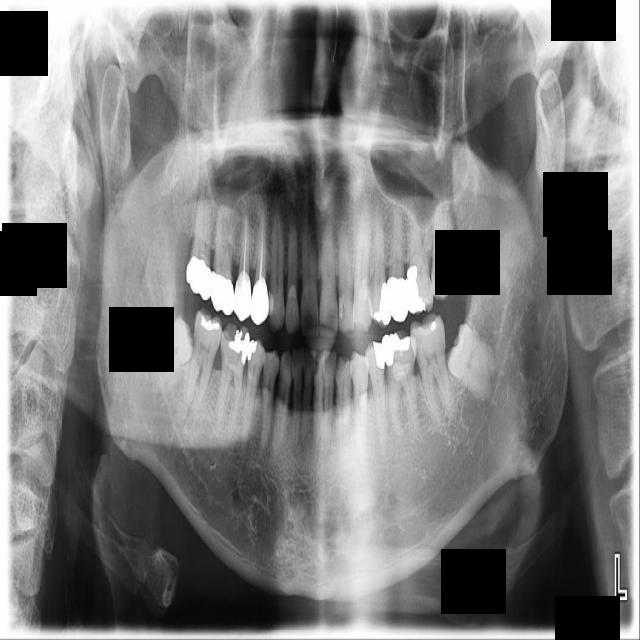52: (401, 308, 456, 366), (379, 328, 422, 385), (186, 306, 228, 360), (218, 323, 251, 375), (428, 261, 464, 304), (366, 274, 393, 329), (403, 274, 436, 317), (185, 255, 213, 302), (385, 275, 410, 323), (249, 276, 272, 327), (210, 271, 235, 316), (245, 337, 267, 384), (364, 339, 386, 383), (233, 272, 252, 322), (283, 284, 301, 336), (268, 282, 285, 334), (338, 290, 355, 334)
73: (253, 205, 274, 288), (237, 207, 255, 281), (623, 612, 632, 620)
BioHorizons Implant: (430, 187, 460, 302)
Biomet 3i Implant: (430, 320, 517, 405)
Blue Sky Bio Implant: (407, 310, 458, 432)
Caries: (185, 172, 216, 301)
Implant: (183, 306, 226, 416)
Keystone Dental Implant: (148, 314, 206, 390)
